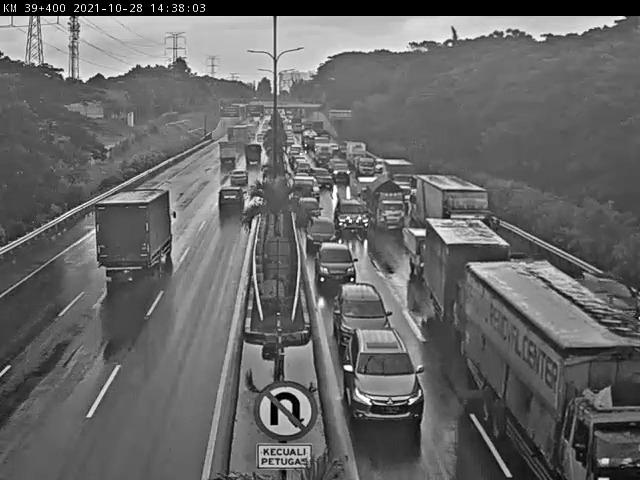big truck: (463, 258, 640, 480)
car: (81, 174, 182, 285), (340, 327, 433, 427), (577, 248, 640, 351), (327, 275, 395, 346), (313, 244, 365, 292), (330, 196, 372, 238), (307, 214, 344, 254), (217, 179, 251, 214), (297, 197, 331, 226), (291, 181, 326, 209), (334, 161, 355, 187), (229, 165, 258, 183)
small truck: (427, 215, 512, 330), (416, 173, 511, 249), (369, 179, 409, 241), (406, 227, 451, 282), (370, 178, 411, 233), (212, 139, 249, 170), (243, 143, 272, 167)
